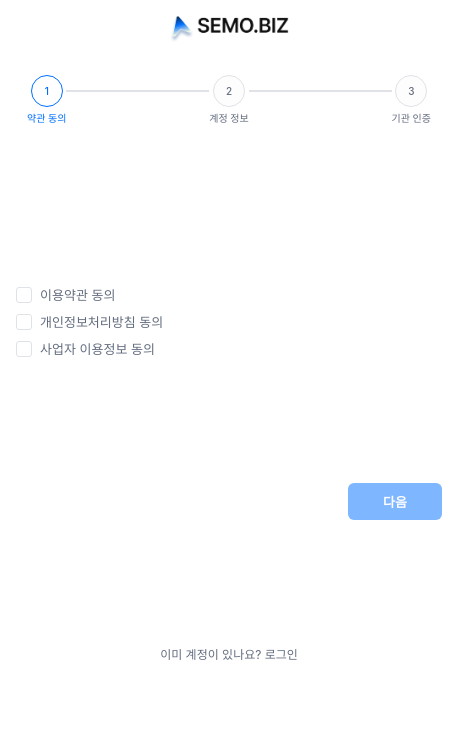
BizSignupFlow › applies the BIZ landing reveal animation when entering the next step
Step 1. Click the checkbox named "이용약관 동의" → point(24, 294), box [16,286,32,302]
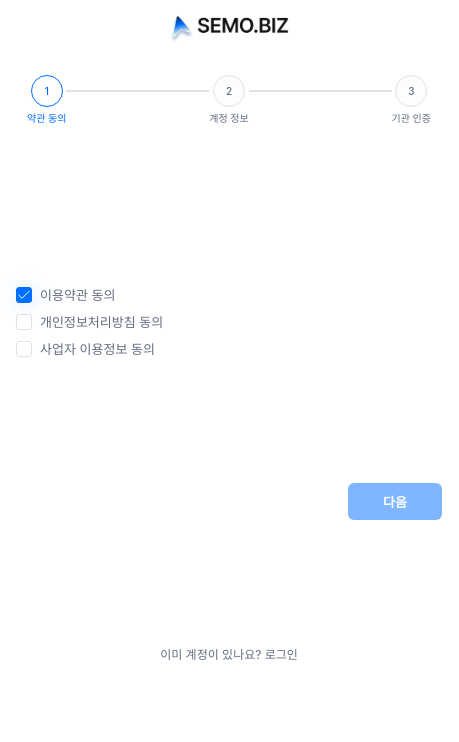
Step 2. Click the checkbox named "개인정보처리방침 동의" → point(24, 322), box [16,314,32,330]
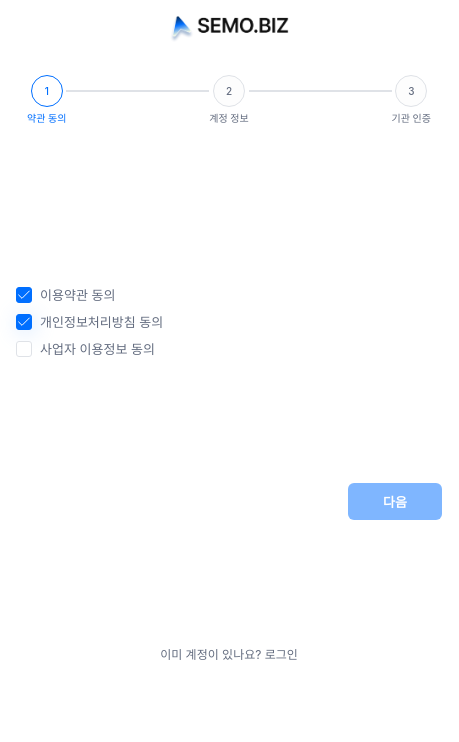
Step 3. Click the 3rd checkbox labelled "사업자 이용정보 동의" → point(86, 348), box [16,339,155,358]
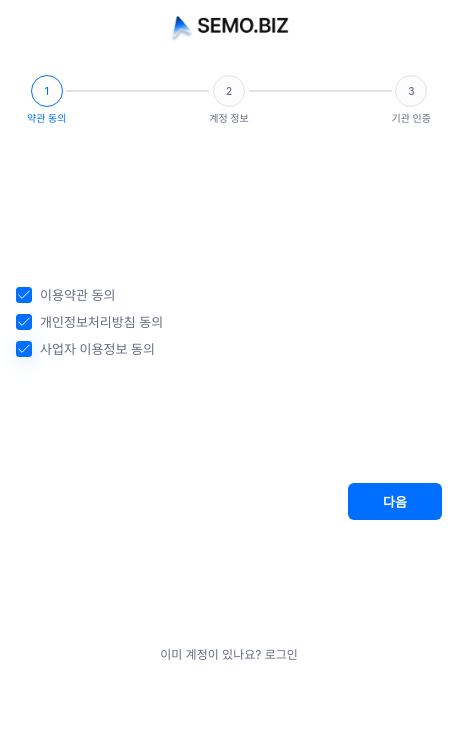
Step 4. Click the button "다음" → point(395, 502), box [348,483,442,520]
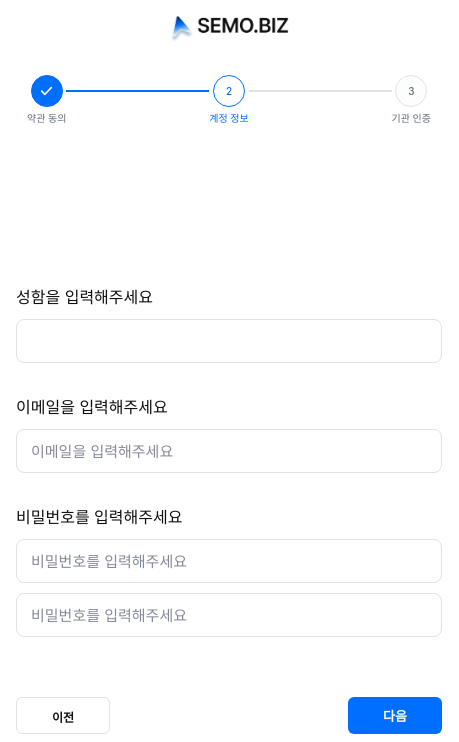
Expected: the text "성함을 입력해주세요" is shown, [16,287,153,307]
